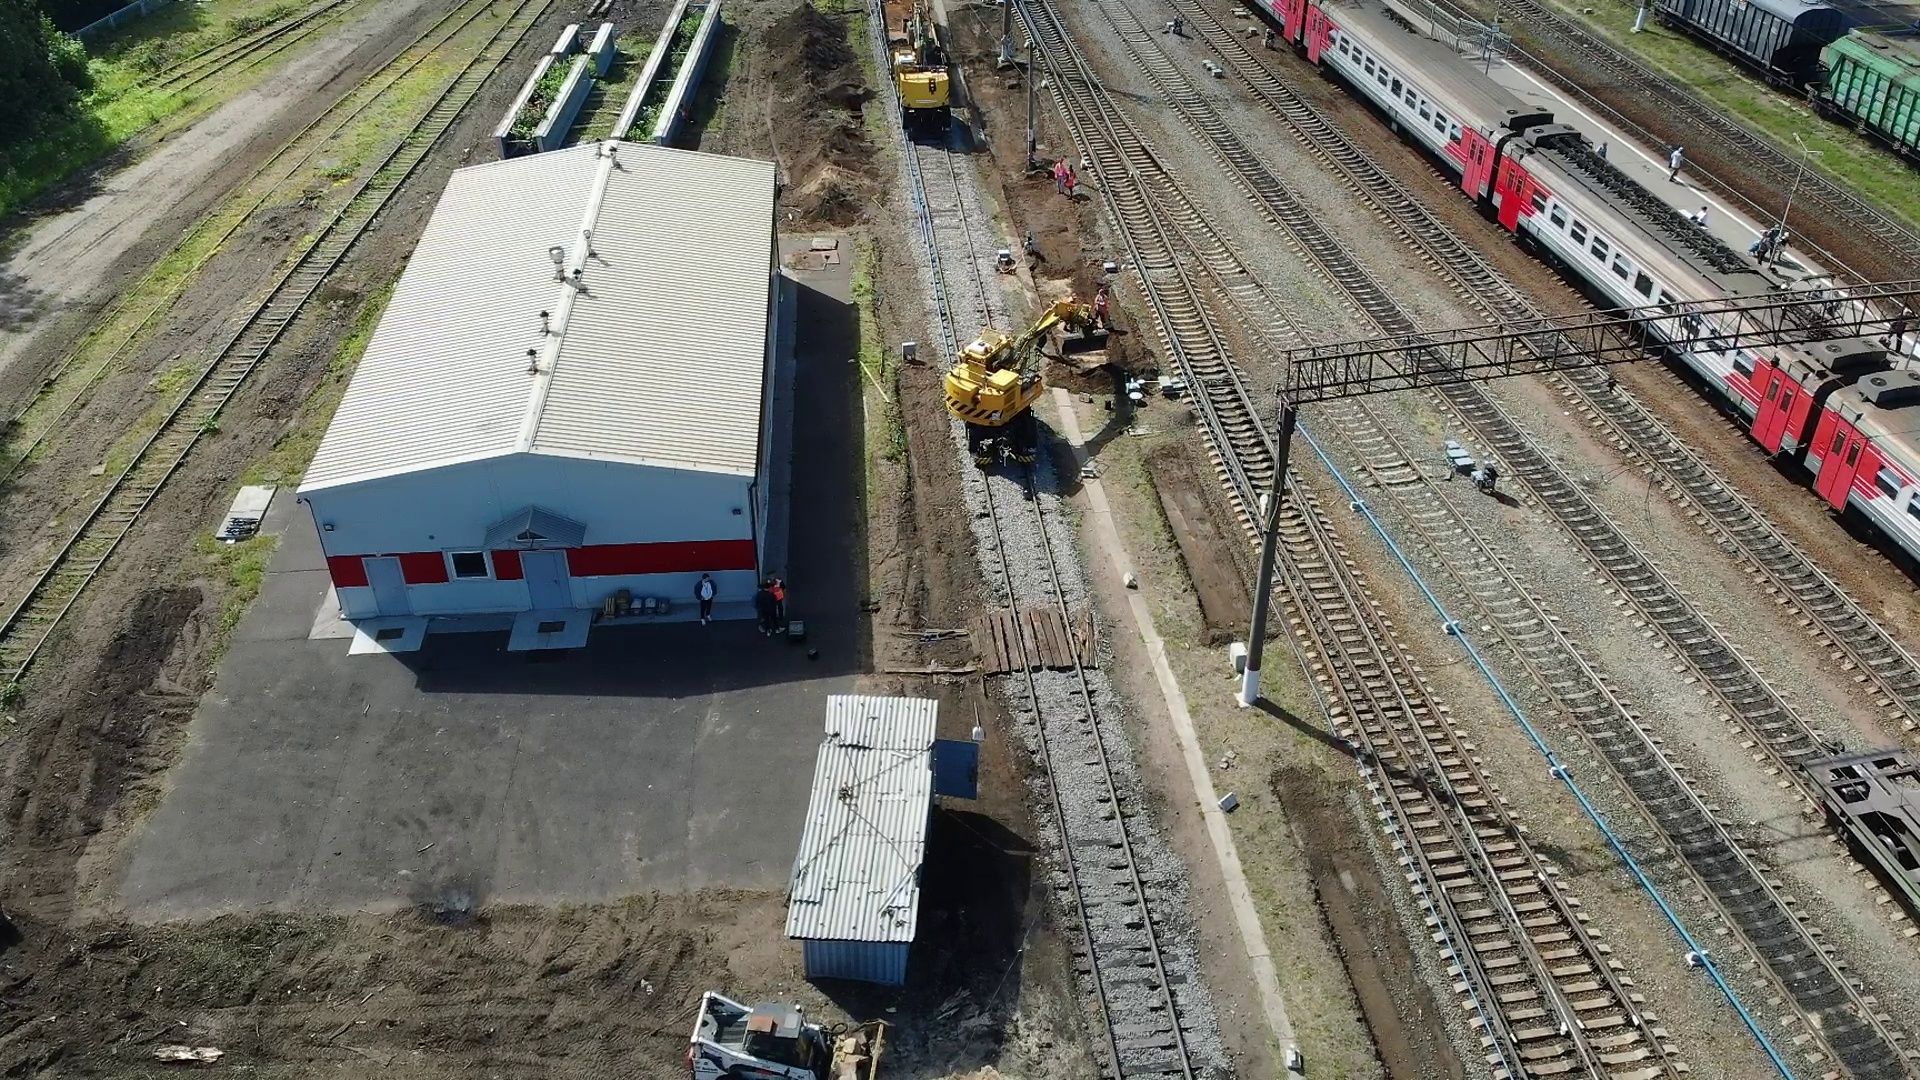kjtv: (948, 326, 1055, 473), (882, 35, 962, 141)
